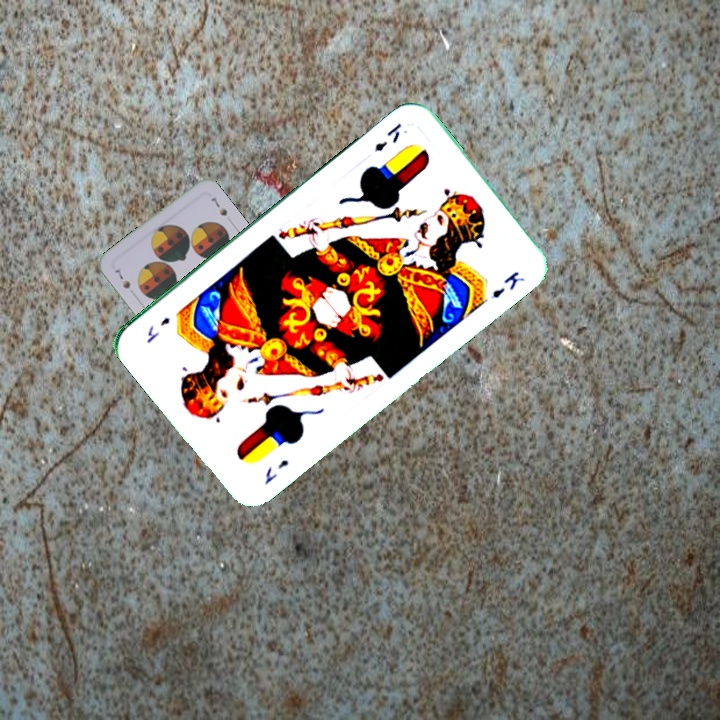EK: (370, 119, 404, 154), (260, 455, 292, 487)
S7: (110, 265, 133, 291)
